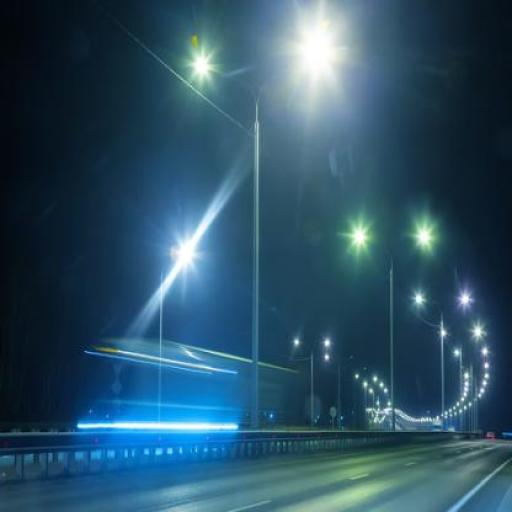street light: (196, 42, 334, 431), (348, 223, 432, 432), (417, 292, 470, 431), (157, 251, 194, 425), (294, 337, 331, 428), (356, 373, 377, 431), (326, 354, 341, 424), (364, 380, 369, 432), (370, 388, 376, 427)
